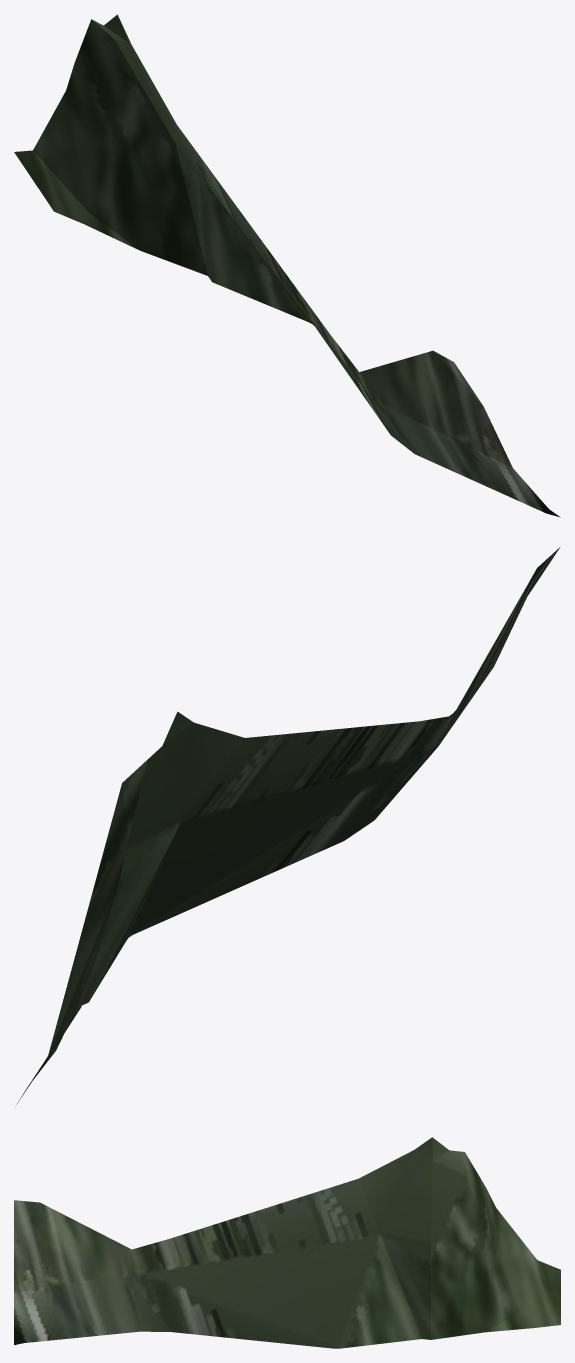
3 views of the same model, one above another, from view 1: azimuth 30°, elevation 25°; view 2: azimuth 150°, elevation 25°; view 3: azimuth 270°, elevation 25° (orthographic). The views are drawn at different scales.
Bounding box in the file's own units: 0.4584 × 1.05 × 2.95.
1 material, 1 textured.
